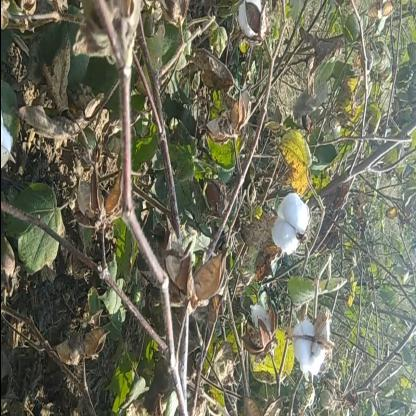cotton_ready: (260, 178, 312, 270), (280, 300, 338, 376)
